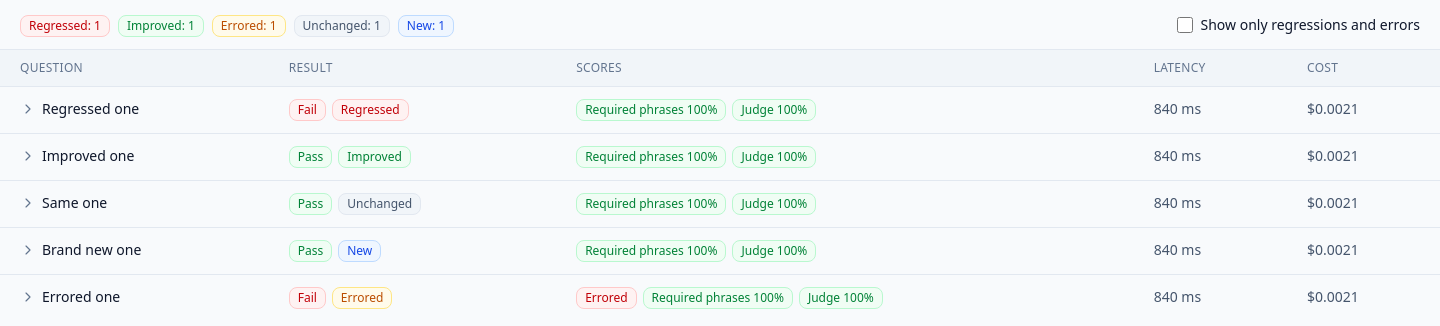
ResultsTable › labels each row against a compared run, counts them, and filters to regressions
Expected: the text "Regressed: 1" is shown, x1=20 y1=15 x2=110 y2=37
Expected: the text "Improved: 1" is shown, x1=118 y1=15 x2=204 y2=37
Click the checkbox labelled "Show only regressions and errors".
click(1184, 24)  # box x1=1176 y1=16 x2=1192 y2=32
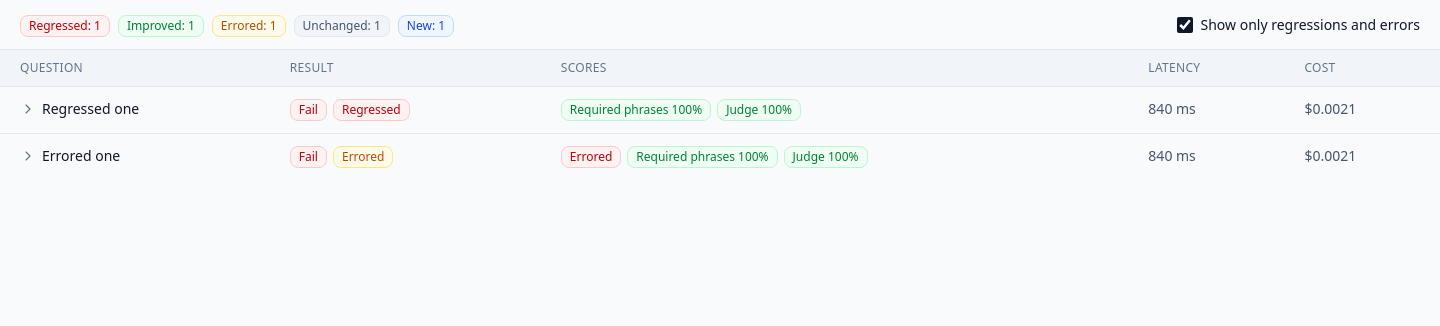
Expected: the text "Regressed one" is shown, x1=42 y1=99 x2=139 y2=119
Expected: the button "Improved one" is gone
Expected: the button "Brand new one" is gone
